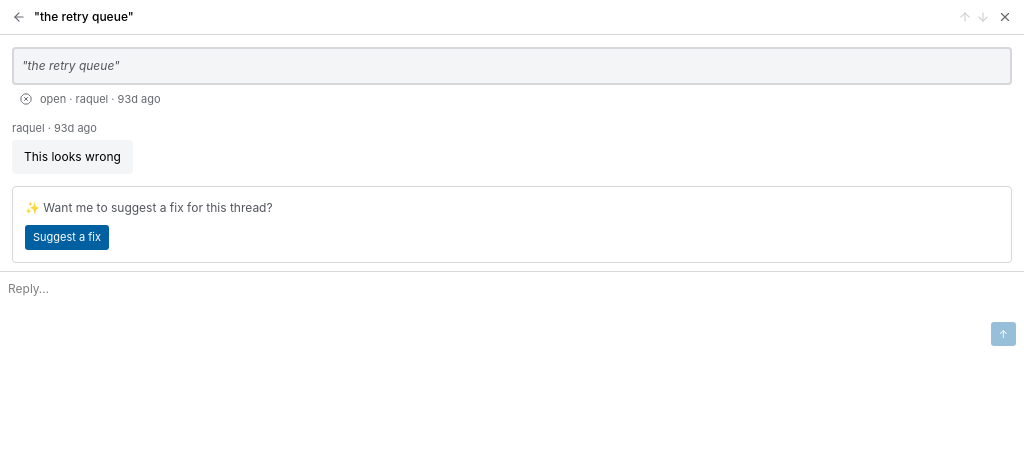
ThreadView › shows a queued card after a reply is sent
In the text box with placeholder "Reply…": (512, 298) x1=8 y1=280 x2=1016 y2=316, type "my reply"
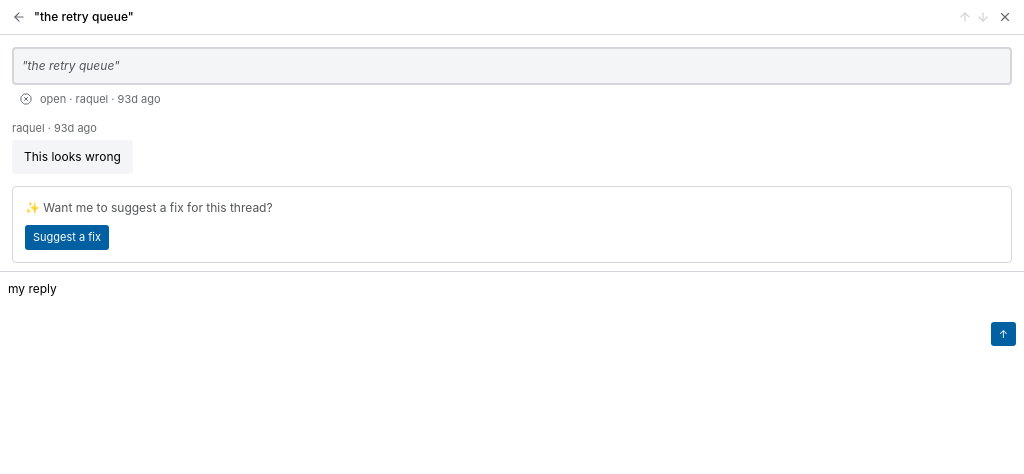
Click the button "↑": (1003, 334) x1=991 y1=322 x2=1016 y2=346
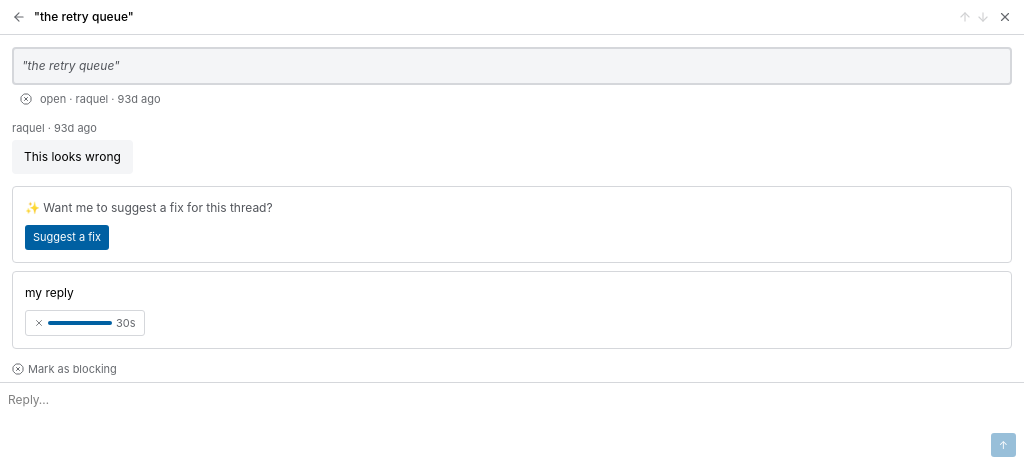
Now the element with test id "queued-reply-card" is shown, box x1=12 y1=270 x2=1012 y2=349
Now the text "my reply" is shown, box x1=25 y1=284 x2=74 y2=300
